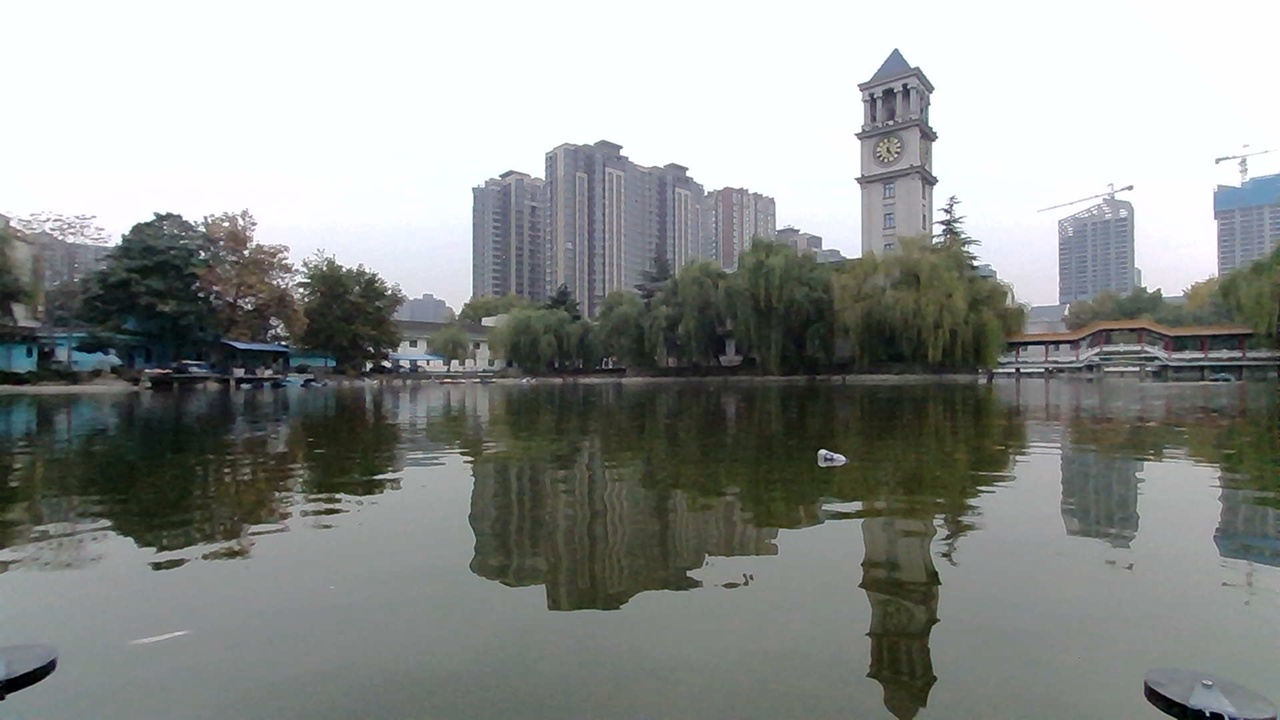bottle: (808, 442, 847, 472)
